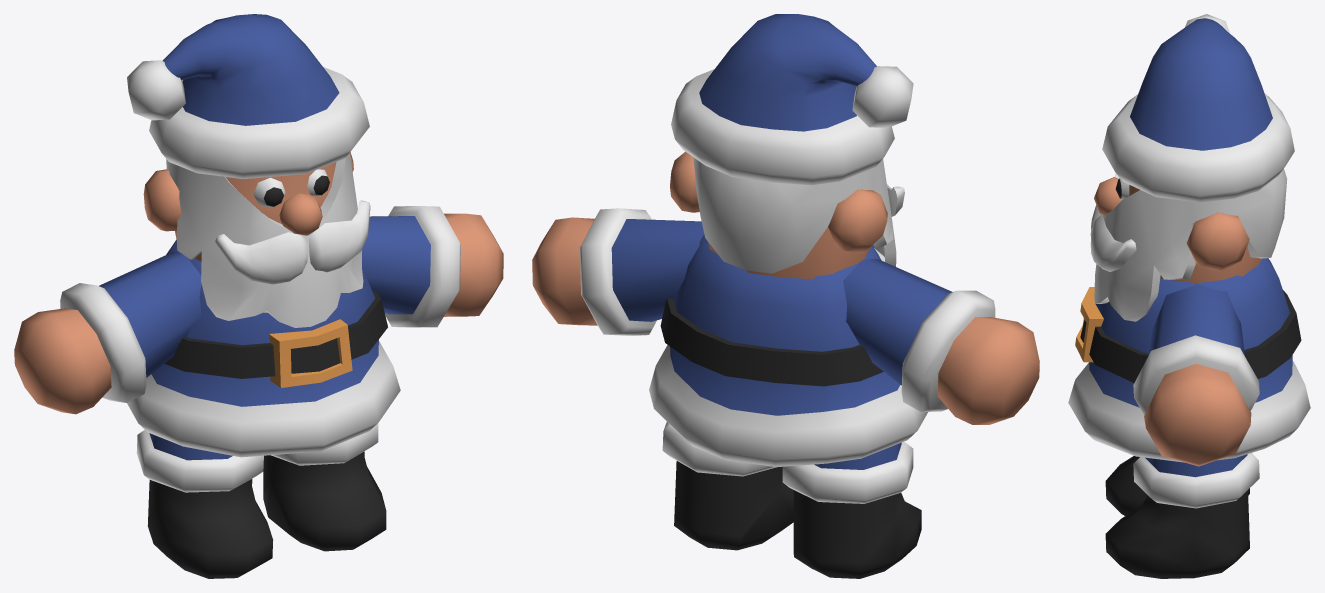
Rendered from Santa_01.fbx.
3 views of the same model, side by side, from view 1: azimuth 30°, elevation 25°; view 2: azimuth 150°, elevation 25°; view 3: azimuth 270°, elevation 25° (orthographic). The views are drawn at different scales.
Visible parts, largest first — view 1: Santa_01_Head, Santa_01, Santa_01_Arm_R, Santa_01_Leg_R, Santa_01_Arm_L, Santa_01_Leg_L; view 2: Santa_01_Head, Santa_01, Santa_01_Arm_R, Santa_01_Arm_L, Santa_01_Leg_R, Santa_01_Leg_L; view 3: Santa_01_Head, Santa_01, Santa_01_Arm_L, Santa_01_Leg_L, Santa_01_Leg_R.
Part boxes in pixels (box(x1,y1,x2,y2)): Santa_01_Head: box(127, 14, 370, 327); Santa_01: box(127, 240, 400, 457); Santa_01_Arm_R: box(14, 252, 201, 414); Santa_01_Leg_R: box(136, 430, 273, 578); Santa_01_Arm_L: box(362, 206, 503, 327); Santa_01_Leg_L: box(263, 423, 386, 551); Santa_01_Head: box(670, 14, 913, 279); Santa_01: box(649, 234, 927, 467); Santa_01_Arm_R: box(843, 259, 1039, 424); Santa_01_Arm_L: box(532, 208, 704, 335); Santa_01_Leg_R: box(782, 442, 921, 578); Santa_01_Leg_L: box(662, 422, 793, 550); Santa_01_Head: box(1090, 14, 1294, 321); Santa_01: box(1068, 258, 1310, 462); Santa_01_Arm_L: box(1133, 283, 1259, 466); Santa_01_Leg_L: box(1105, 453, 1259, 578); Santa_01_Leg_R: box(1105, 456, 1249, 515).
Size of the model in its own units: 0.7617 by 0.7998 by 0.3529.
